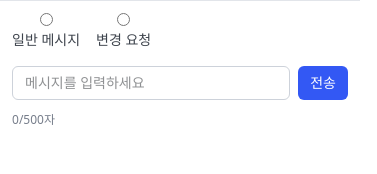
it: ChatMessageInput — BR-05 일반/변경요청 명시적 선택 (§4.1 필수 RTL 테스트) › 전송 유형을 선택하지 않으면 전송이 차단됨(기본 선택값 없음)
The width and height of the screenshot is (377, 174).
Type "안녕하세요" into the field labelled "메시지" at (151, 83), box [12, 66, 290, 100]
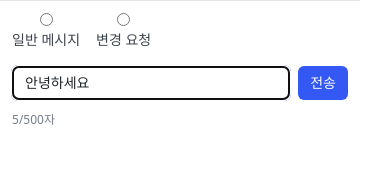
Click the button "전송" at (323, 83), box [298, 66, 348, 100]
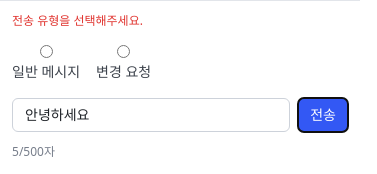
expect the text "전송 유형을 선택해주세요." is shown: met, box [12, 12, 143, 29]
